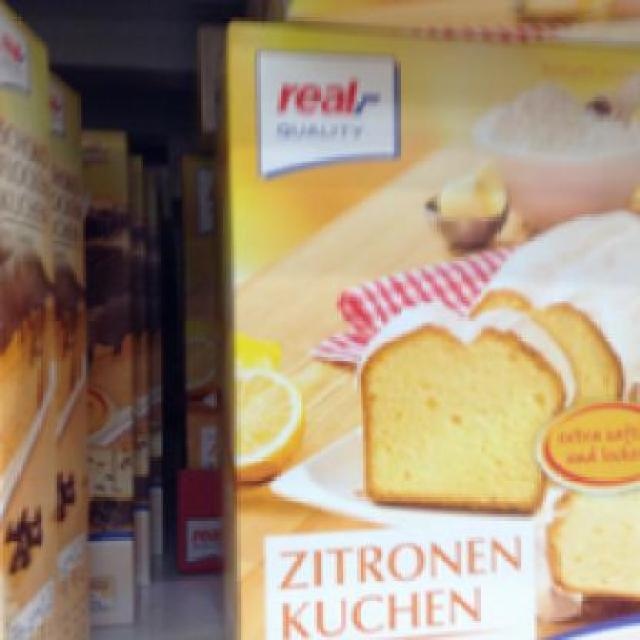Cake: (217, 13, 637, 630)
